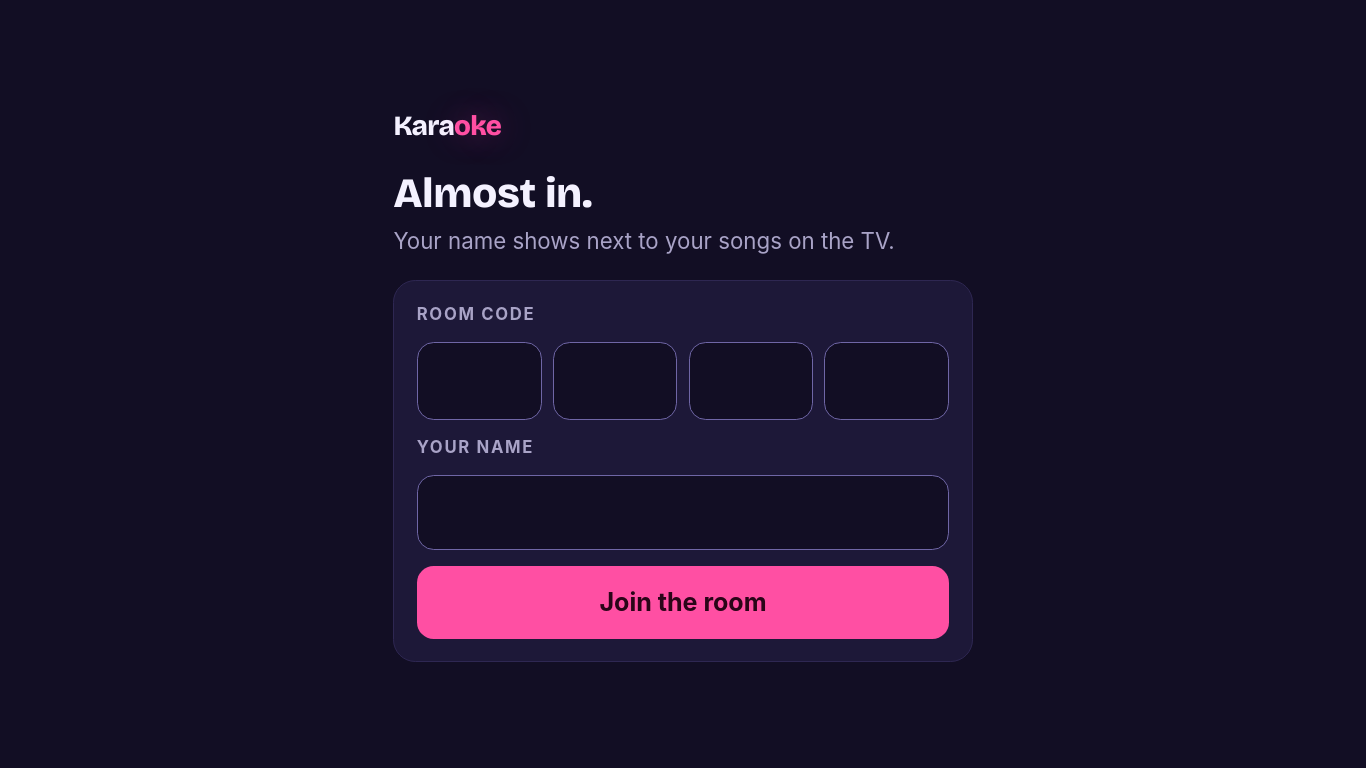
Test: Join › a song that is already in the queue › is marked in the results, with how many times it is there
Later steps or results of the test are not shown.
Type "ABCD" into the field labelled "Room code" at (750, 381), box [417, 342, 1082, 420]
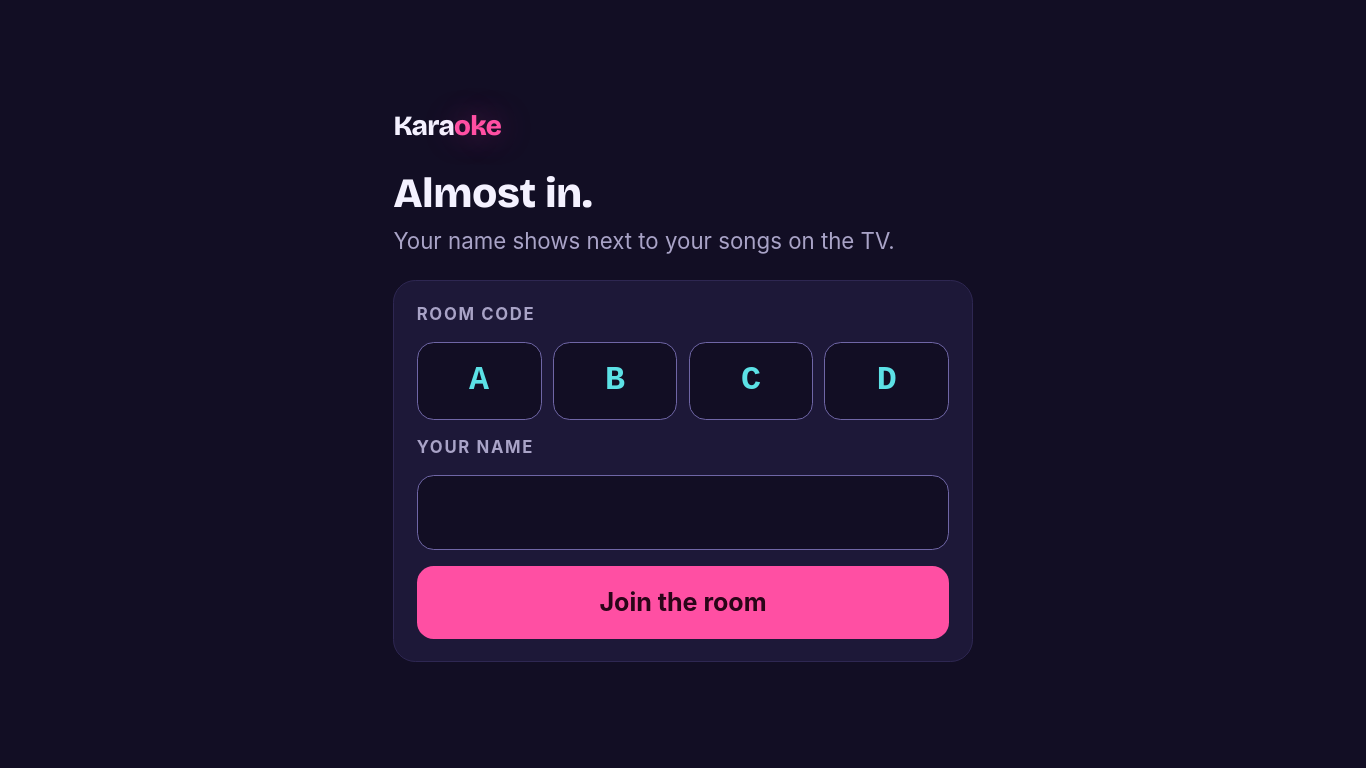
Type "Sam" into the field labelled "Your name" at (683, 512), box [417, 475, 949, 550]
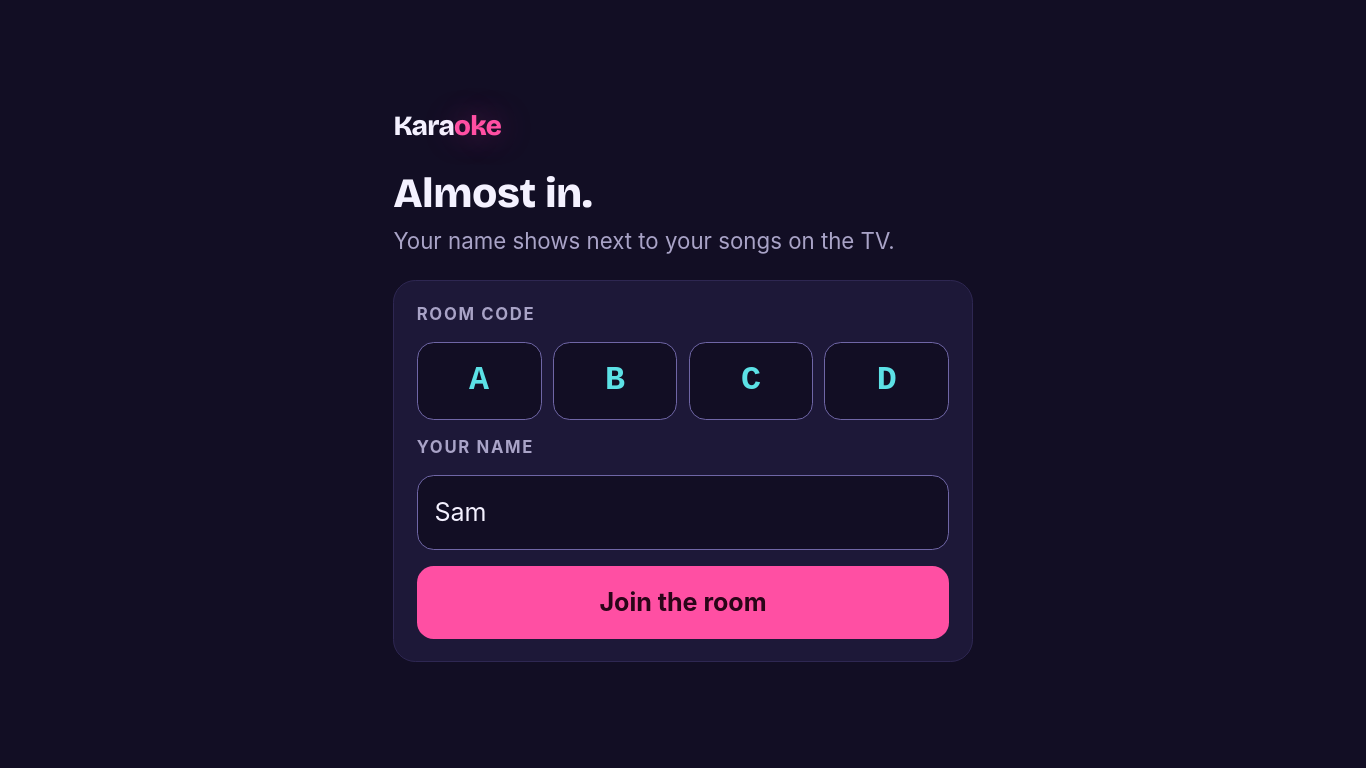
Click the button "Join the room" at (683, 603), box [417, 566, 949, 639]
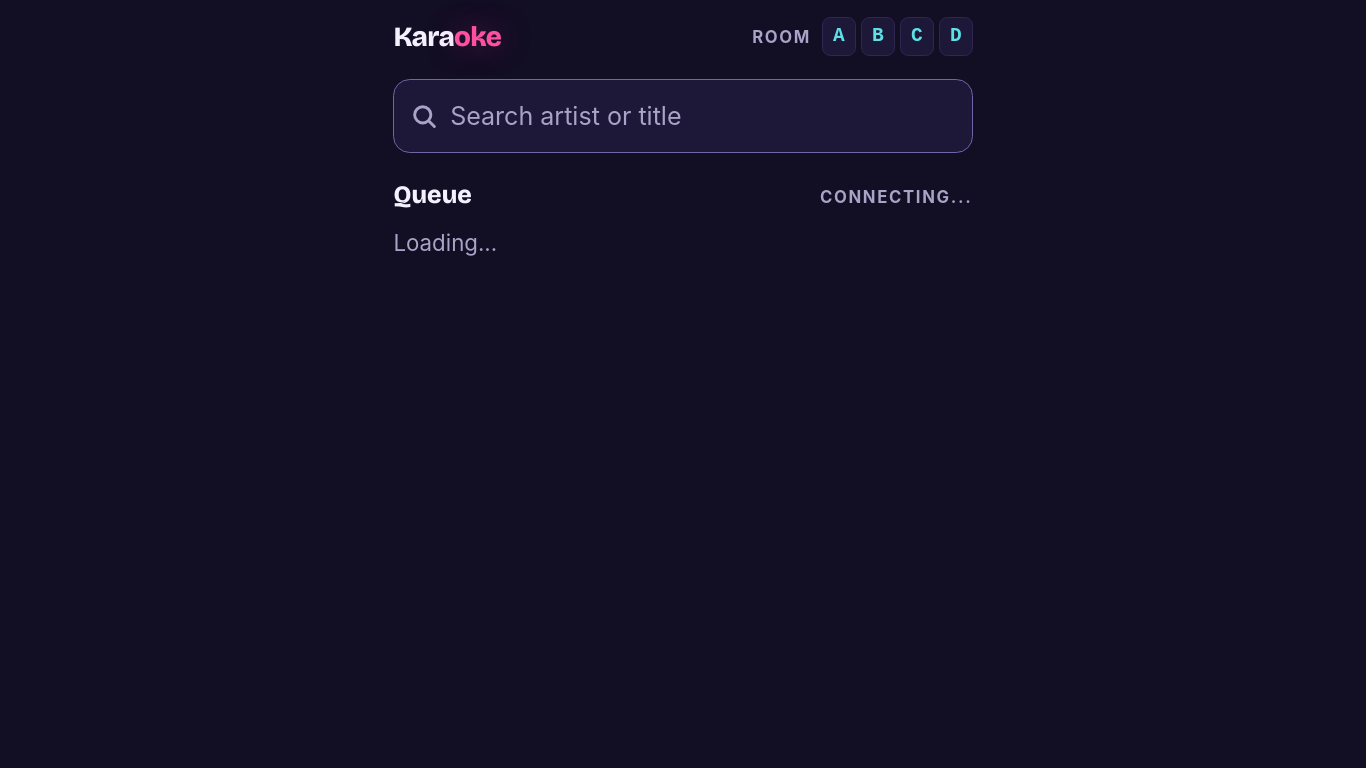
Type "queen" into the search field named "Search songs" at (683, 116), box [394, 79, 973, 153]
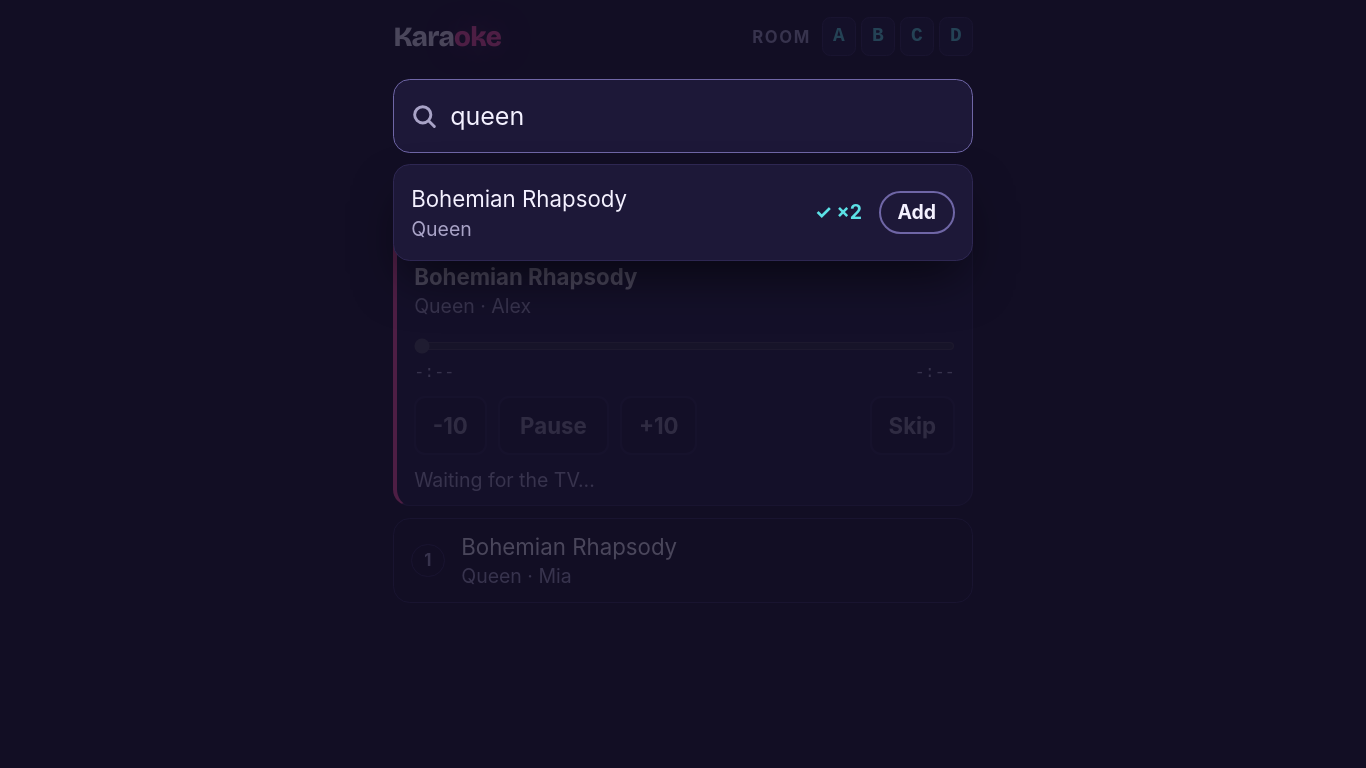
Check: the button "Bohemian Rhapsody Queen ✓ ×2 Add" is enabled, box [394, 165, 972, 260]
